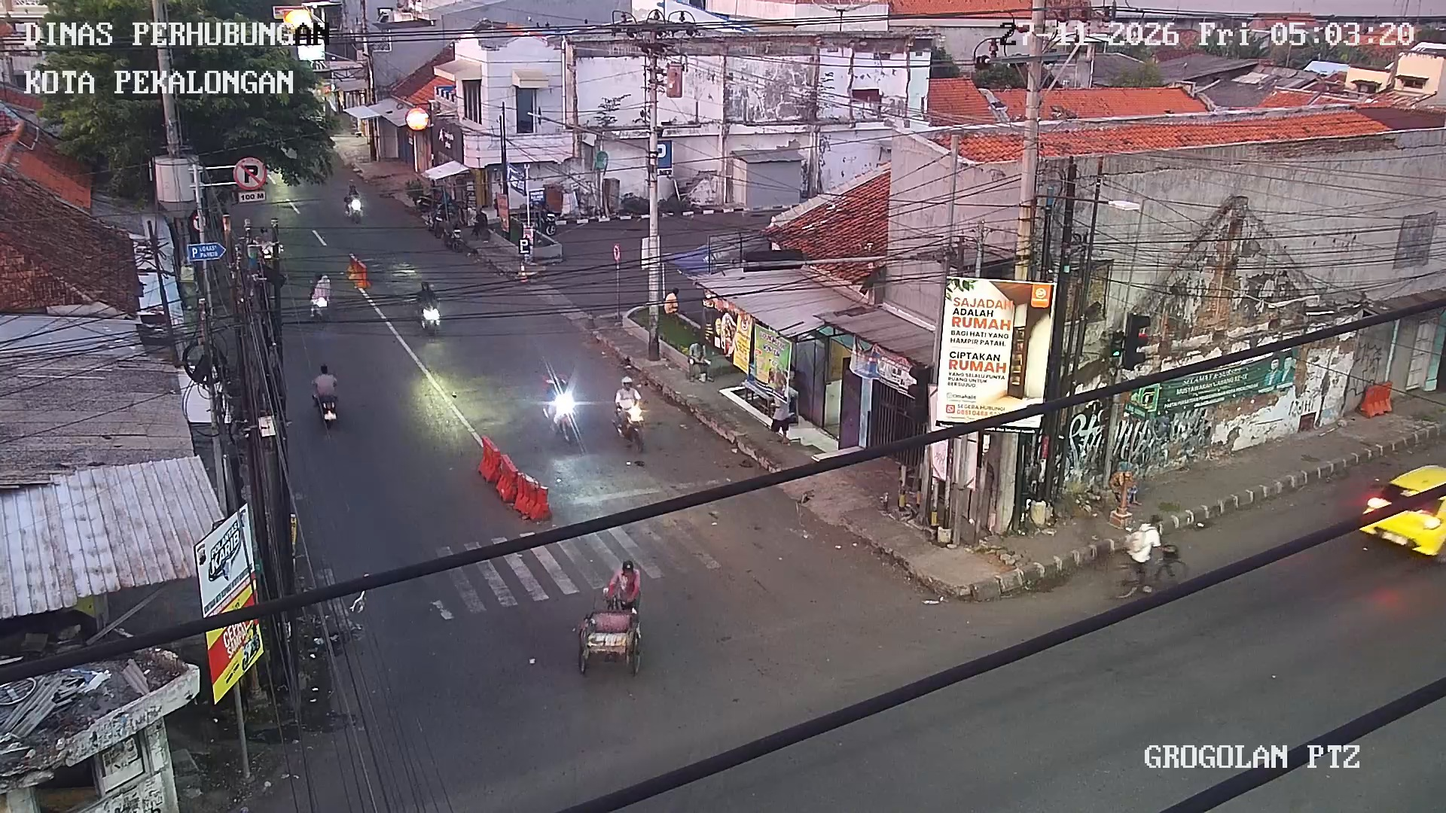Gerobak: (576, 598, 643, 676)
